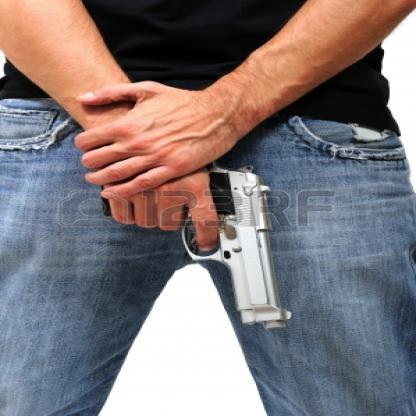pistol: (97, 144, 292, 330)
